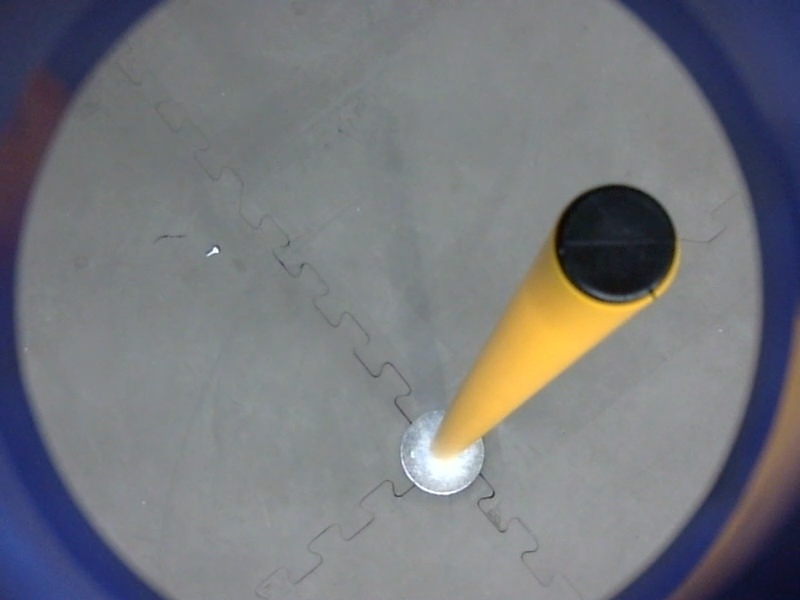tip: (549, 180, 687, 316)
